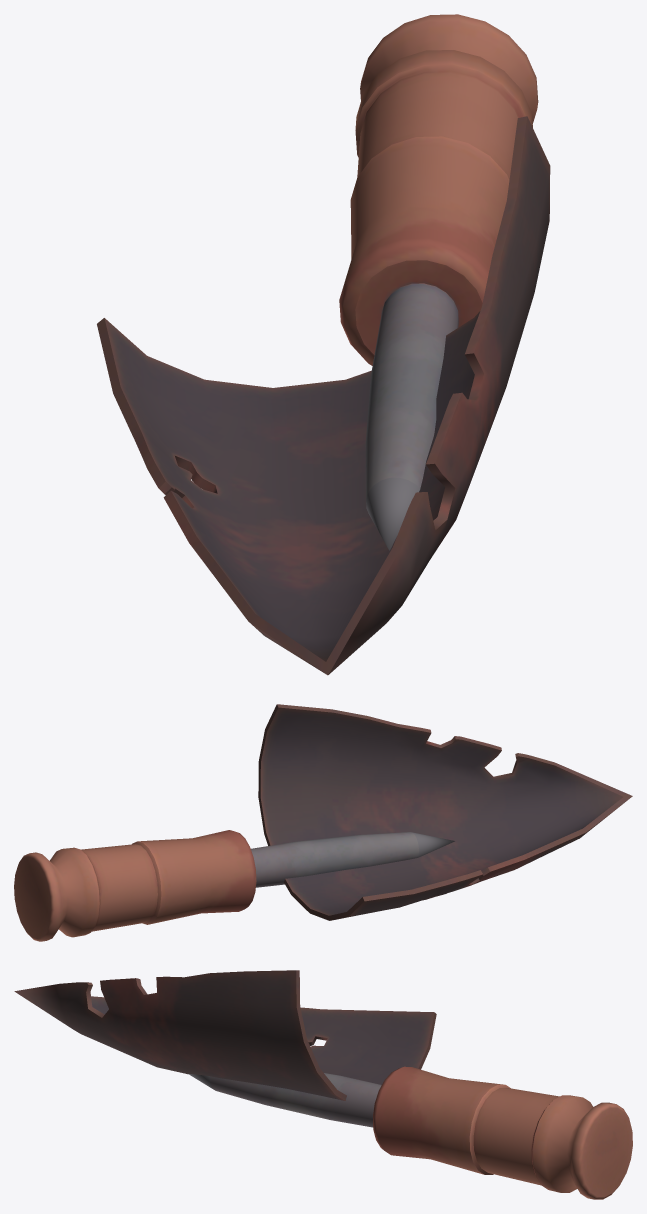
Rendered from TRINKET_trowel Variant.fbx.
3 renders of one model, top to bottom at view 1: azimuth 30°, elevation 25°; view 2: azimuth 150°, elevation 25°; view 3: azimuth 270°, elevation 25°, orthographic. The views are drawn at different scales.
Visible parts, largest first — view 1: trowel, trowelHandle; view 2: trowel, trowelHandle; view 3: trowel, trowelHandle.
Boxes of the visible parts, x1,y1,x2,y2 form: trowel: (97, 116, 550, 675); trowelHandle: (339, 14, 538, 550); trowel: (258, 704, 632, 920); trowelHandle: (14, 830, 454, 941); trowel: (14, 970, 436, 1100); trowelHandle: (188, 1066, 632, 1199).
Bounding box in the file's own units: 1.95 × 0.8631 × 2.63.
1 material, 1 textured.
